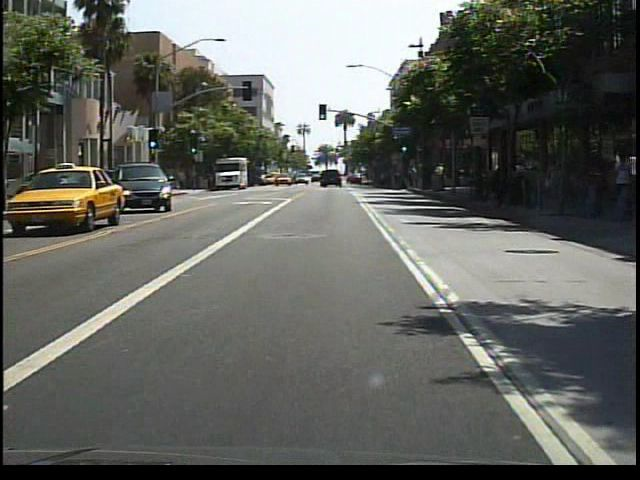person: (606, 150, 633, 189), (176, 164, 190, 191)
